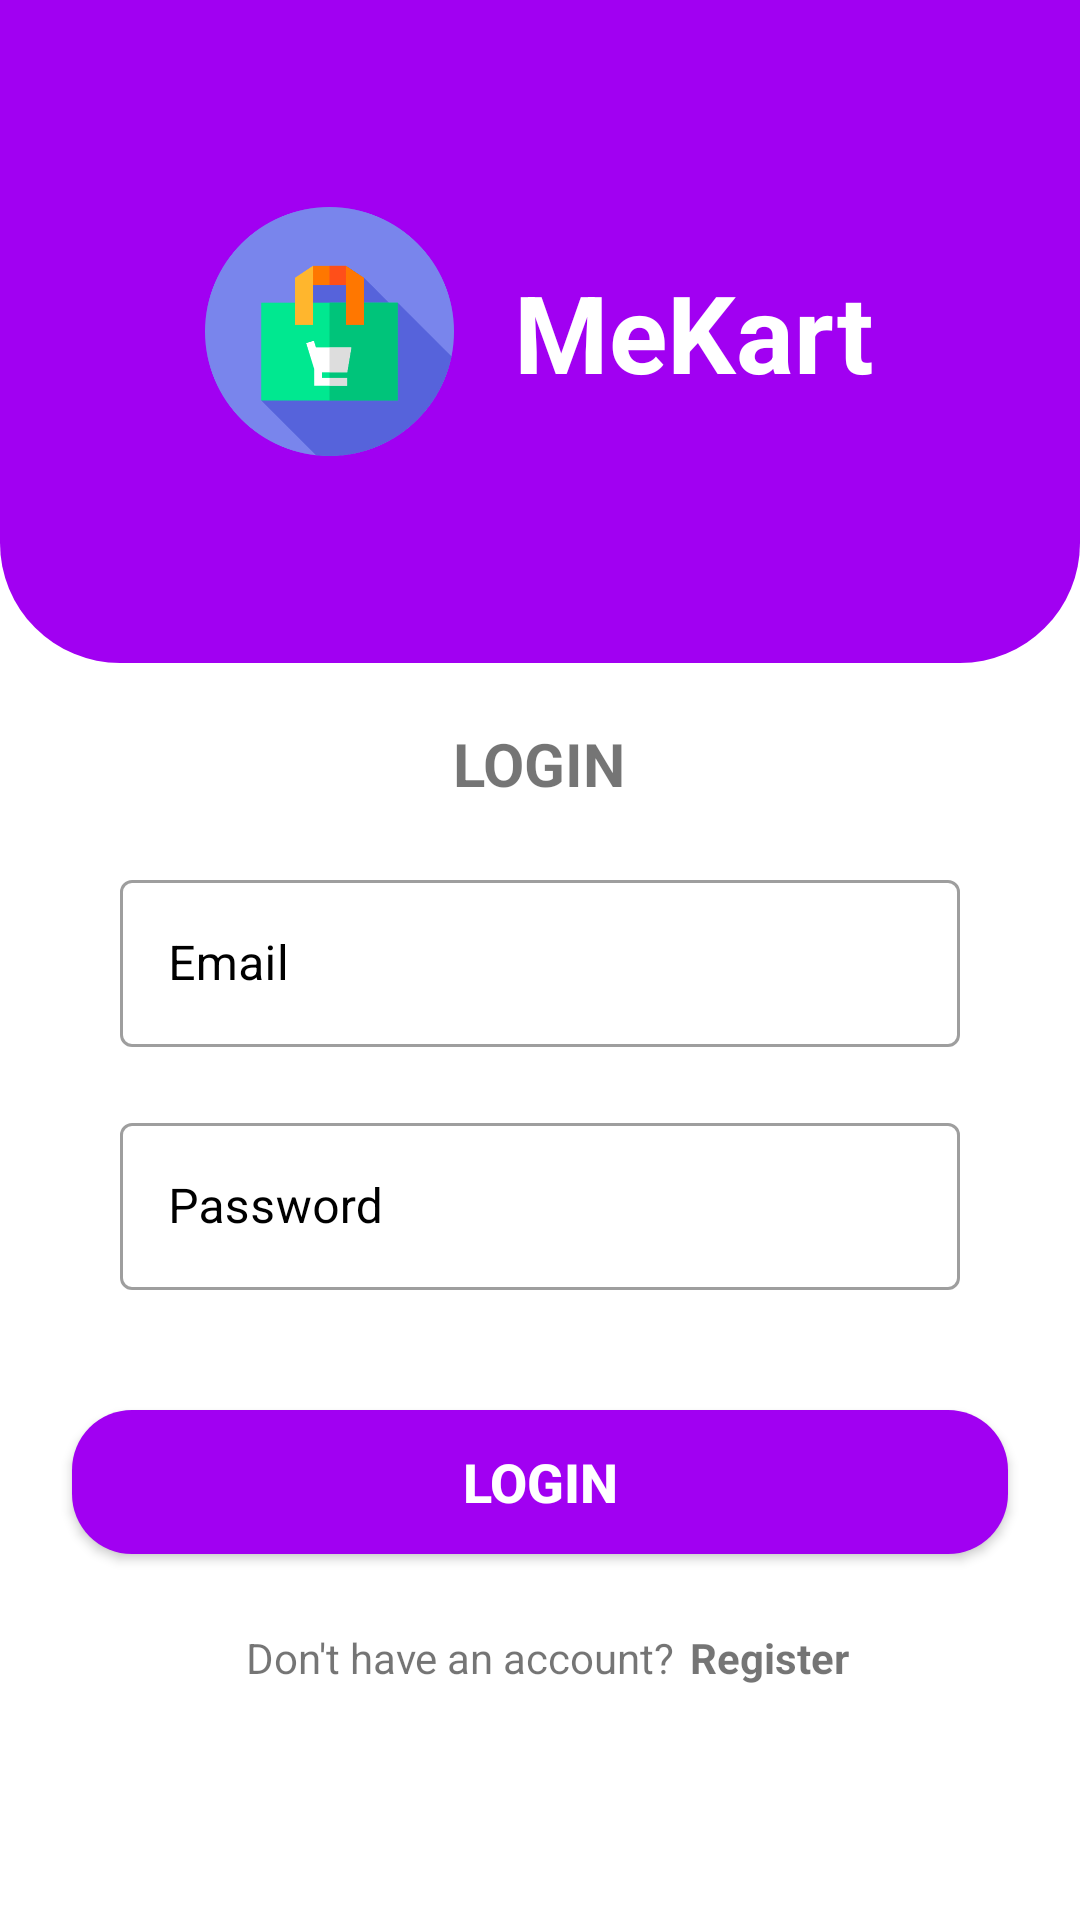

Screen size 1080w x 1920h. Icon name, then its center in pixels as (x,y):
shopping: (329,331)
